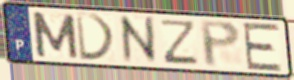D: (73, 11, 118, 62)
E: (241, 22, 284, 73)
M: (30, 10, 81, 61)
N: (116, 14, 161, 65)
P: (197, 19, 242, 69)
Z: (161, 18, 200, 66)
